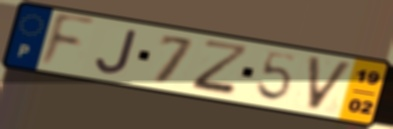5: (253, 49, 300, 103)
7: (155, 33, 197, 87)
F: (36, 11, 98, 71)
J: (94, 27, 141, 76)
V: (305, 54, 356, 113)
Z: (188, 38, 253, 99)
